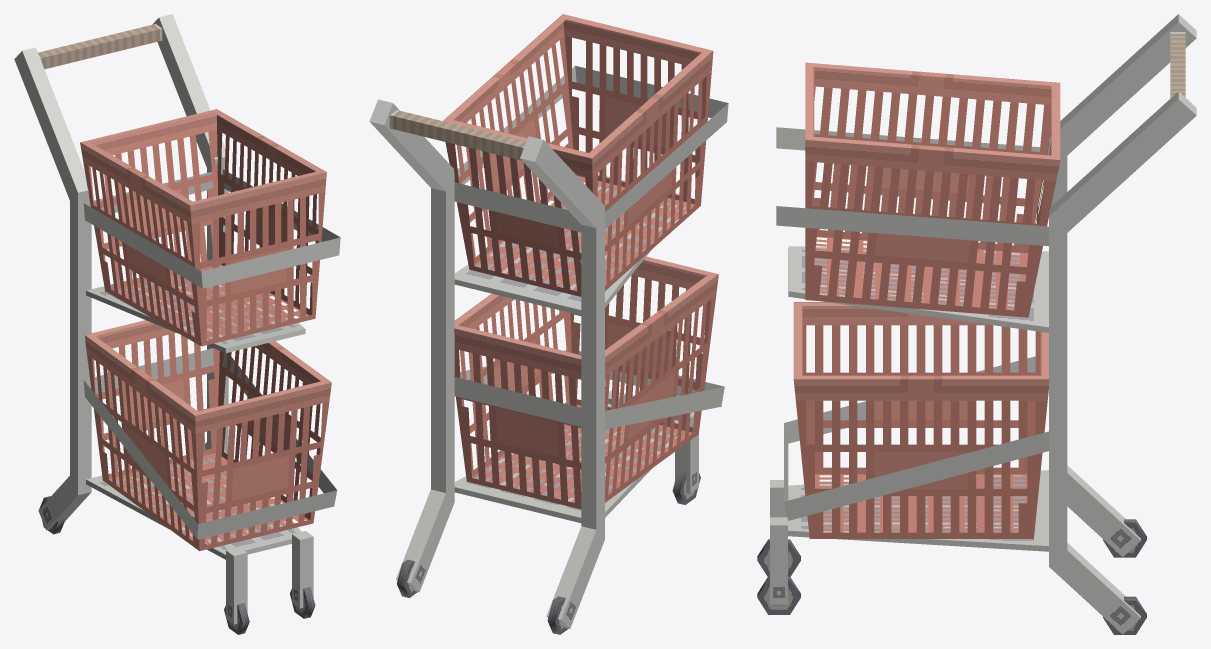
Rendered from 0063_Shopping_Cart.glb.
3 renders of one model, left to right at view 1: azimuth 30°, elevation 25°; view 2: azimuth 150°, elevation 25°; view 3: azimuth 270°, elevation 25°, orthographic. The views are drawn at different scales.
Visible parts, largest first — view 1: part_0; view 2: part_0; view 3: part_0.
Part boxes in pixels (x1,y1,x2,y2): part_0: [14, 14, 340, 634]; part_0: [369, 14, 728, 634]; part_0: [757, 14, 1196, 634].
Size of the model in its own units: 0.33 by 0.9727 by 0.7206.
1 material, 1 textured.
